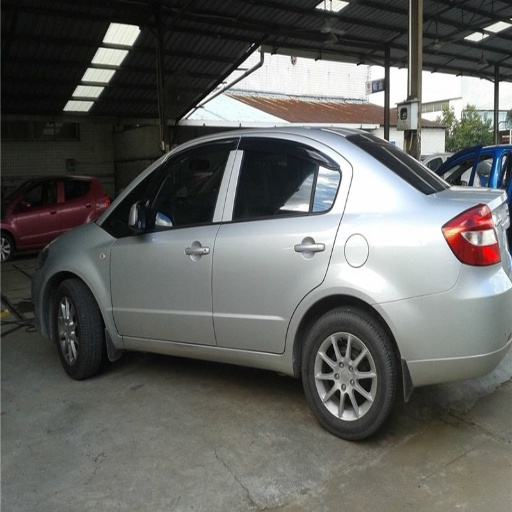back_bumper: (384, 259, 510, 392)
back_glass: (349, 134, 447, 192)
back_left_door: (214, 133, 345, 354)
